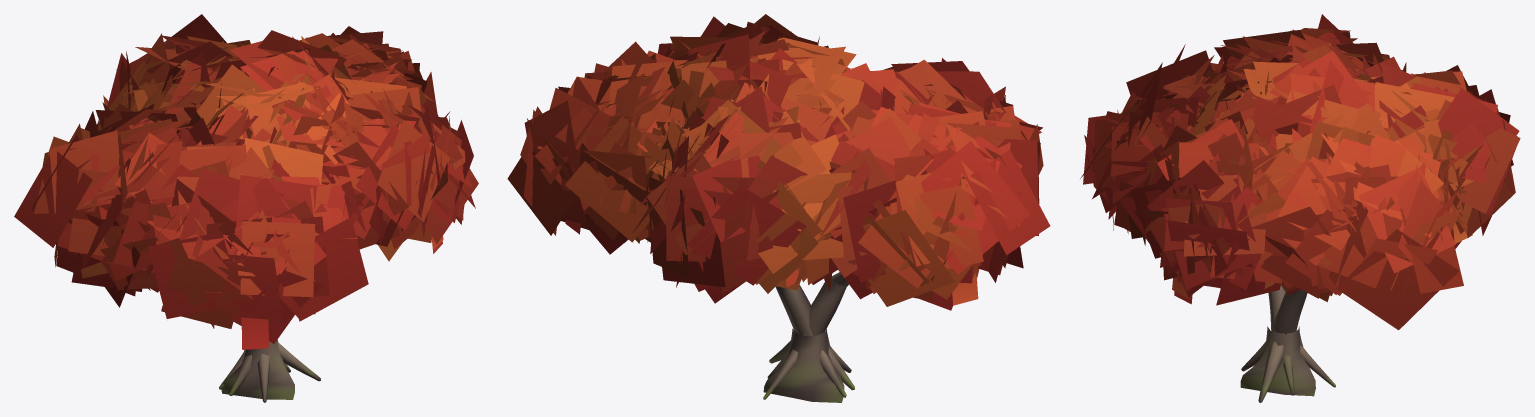
File: tree-maple-dome-v1.glb
3 renders of one model, left to right at view 1: azimuth 30°, elevation 25°; view 2: azimuth 150°, elevation 25°; view 3: azimuth 270°, elevation 25°, orthographic. The views are drawn at different scales.
Parts seen in each view (by area): view 1: cards_maple, bark; view 2: cards_maple, bark; view 3: cards_maple, bark.
Boxes of the visible parts, x1=… form: cards_maple: x1=14, y1=14, x2=478, y2=349; bark: x1=219, y1=339, x2=320, y2=402; cards_maple: x1=507, y1=14, x2=1050, y2=310; bark: x1=763, y1=272, x2=854, y2=402; cards_maple: x1=1080, y1=14, x2=1520, y2=330; bark: x1=1240, y1=285, x2=1335, y2=402.
Bounding box in the file's own units: 8.11 × 6.08 × 7.13.
